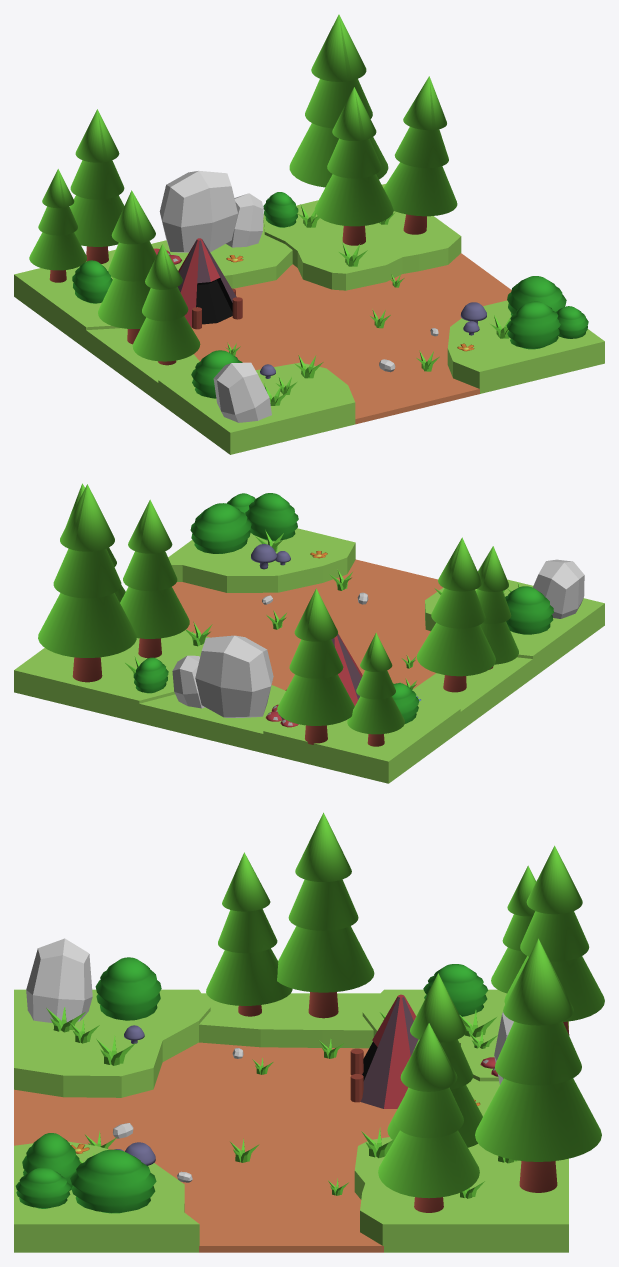
Rendered from jungle level set - 2 Way (5).fbx.
3 views of the same model, one above another, from view 1: azimuth 30°, elevation 25°; view 2: azimuth 150°, elevation 25°; view 3: azimuth 270°, elevation 25° (orthographic). The views are drawn at different scales.
Parts seen in each view (by area): view 1: land_platform, tree, tree_002, tree_001, tree_006, stone, tree_005, tree_007, camp, tree_003, stone_004, bush_004 (+6 smaller); view 2: land_platform, tree_001, tree_005, tree_006, tree, stone, tree_003, tree_007, bush, stone_004, bush_004, bush_005 (+5 smaller); view 3: land_platform, tree_001, tree_005, tree_002, tree_007, tree_006, camp, stone_004, bush, tree, bush_005, tree_003 (+3 smaller).
Boxes of the visible parts, x1,y1,x2,y2 form: land_platform: (14,184,604,454); tree: (314,87,393,245); tree_002: (383,76,457,234); tree_001: (289,14,388,187); tree_006: (70,109,124,263); stone: (159,171,237,252); tree_005: (98,190,156,344); tree_007: (132,244,200,365); camp: (178,238,242,329); tree_003: (29,169,86,282); stone_004: (213,362,271,422); bush_004: (506,301,560,349); land_platform: (14,528,604,783); tree_001: (38,484,136,682); tree_005: (417,537,495,692); tree_006: (277,588,354,744); tree: (120,499,189,658); stone: (195,635,273,717); tree_003: (347,632,404,746); tree_007: (476,546,518,669); bush: (190,503,251,553); stone_004: (533,559,584,618); bush_004: (245,493,298,541); bush_005: (505,586,553,634); land_platform: (14,989,568,1252); tree_001: (475,938,601,1192); tree_005: (277,812,374,1018); tree_002: (378,1023,479,1212); tree_007: (206,852,292,1016); tree_006: (504,845,604,1035); camp: (350,994,418,1108); stone_004: (26,938,92,1022); bush: (70,1149,156,1213); tree: (387,973,482,1147); bush_005: (95,957,161,1020); tree_003: (491,865,536,993).
Bounding box in the file's own units: 15.8 × 8.46 × 16.16.
